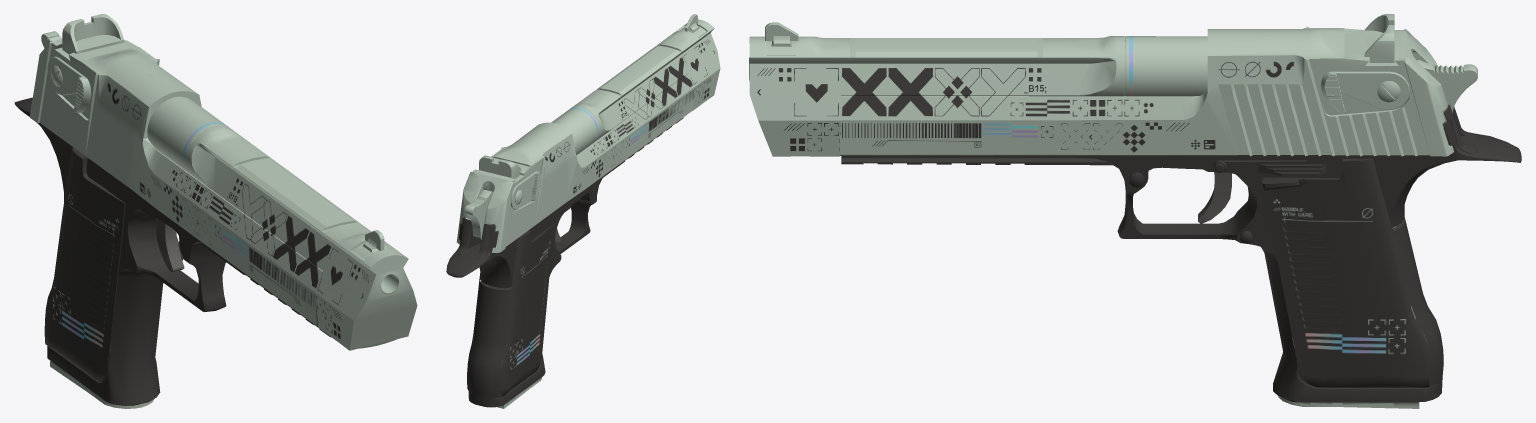
Rendered from deagle-printstream.glb.
3 renders of one model, left to right at view 1: azimuth 30°, elevation 25°; view 2: azimuth 150°, elevation 25°; view 3: azimuth 270°, elevation 25°, orthographic. The views are drawn at different scales.
Parts seen in each view (by area): view 1: deagle-printstream; view 2: deagle-printstream; view 3: deagle-printstream.
Boxes of the visible parts, left/top/right/bottom form: deagle-printstream: left=14, top=14, right=417, bottom=408; deagle-printstream: left=446, top=14, right=720, bottom=408; deagle-printstream: left=749, top=14, right=1521, bottom=408.
Bounding box in the file's own units: 0.033 × 0.154 × 0.2888.
Materials: 1 (1 with a texture image).
